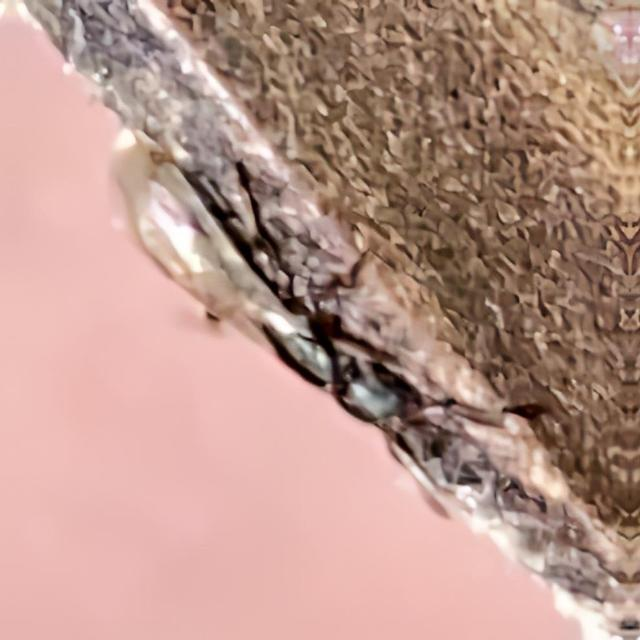Ponera: (35, 106, 511, 498)
